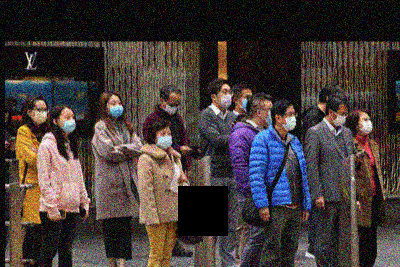with_mask: (32, 105, 49, 125), (108, 99, 125, 119), (61, 113, 77, 134), (283, 110, 298, 132), (157, 130, 174, 149), (218, 88, 234, 108), (333, 110, 349, 127), (359, 116, 374, 134), (164, 101, 180, 115), (263, 104, 273, 125)
